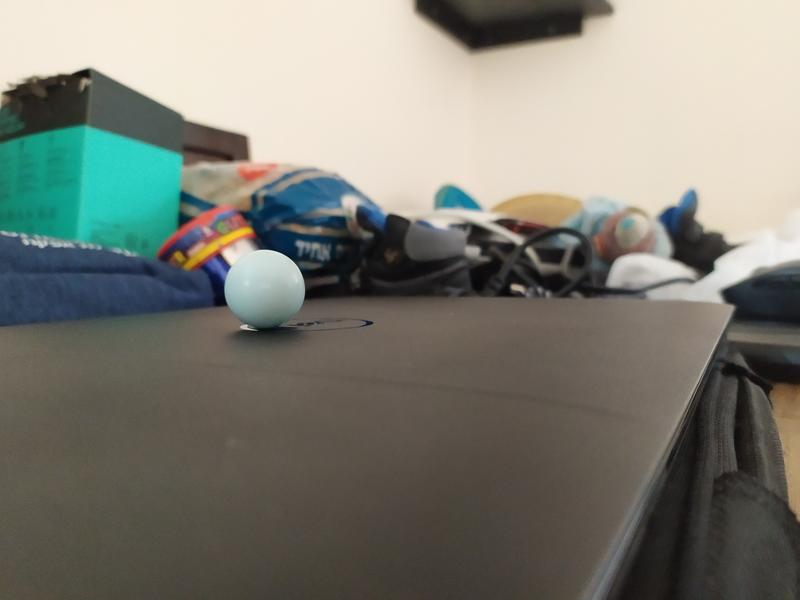Warning: (221, 247, 308, 331)
